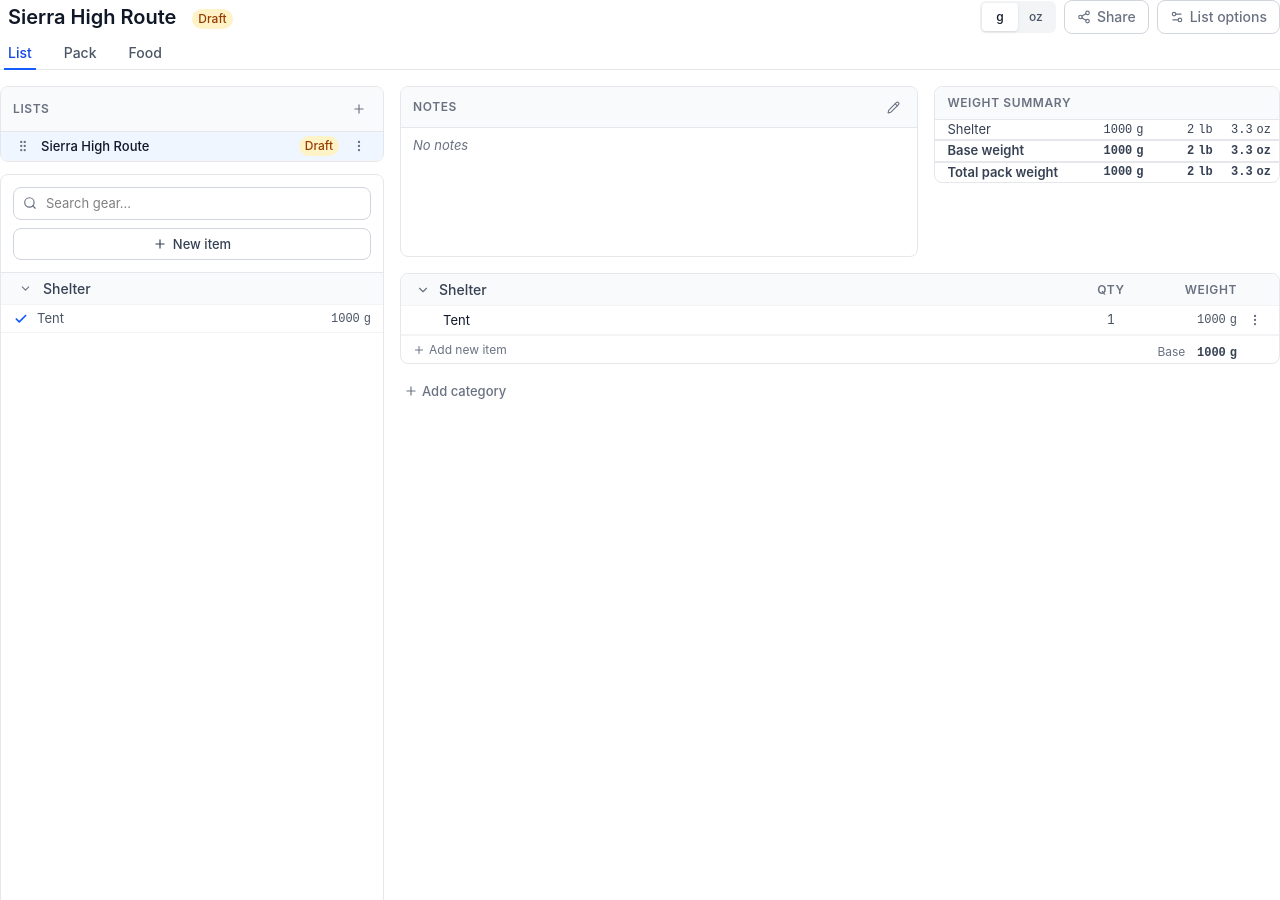
Scenario: the edit-gear dialog save › a success arriving after the dialog was reopened does not close the new one
What coordinates should you click on to do the following:
click the button named "Item options"
I would click on:
 (1255, 320)
Its box is 1243,308 -> 1267,332.
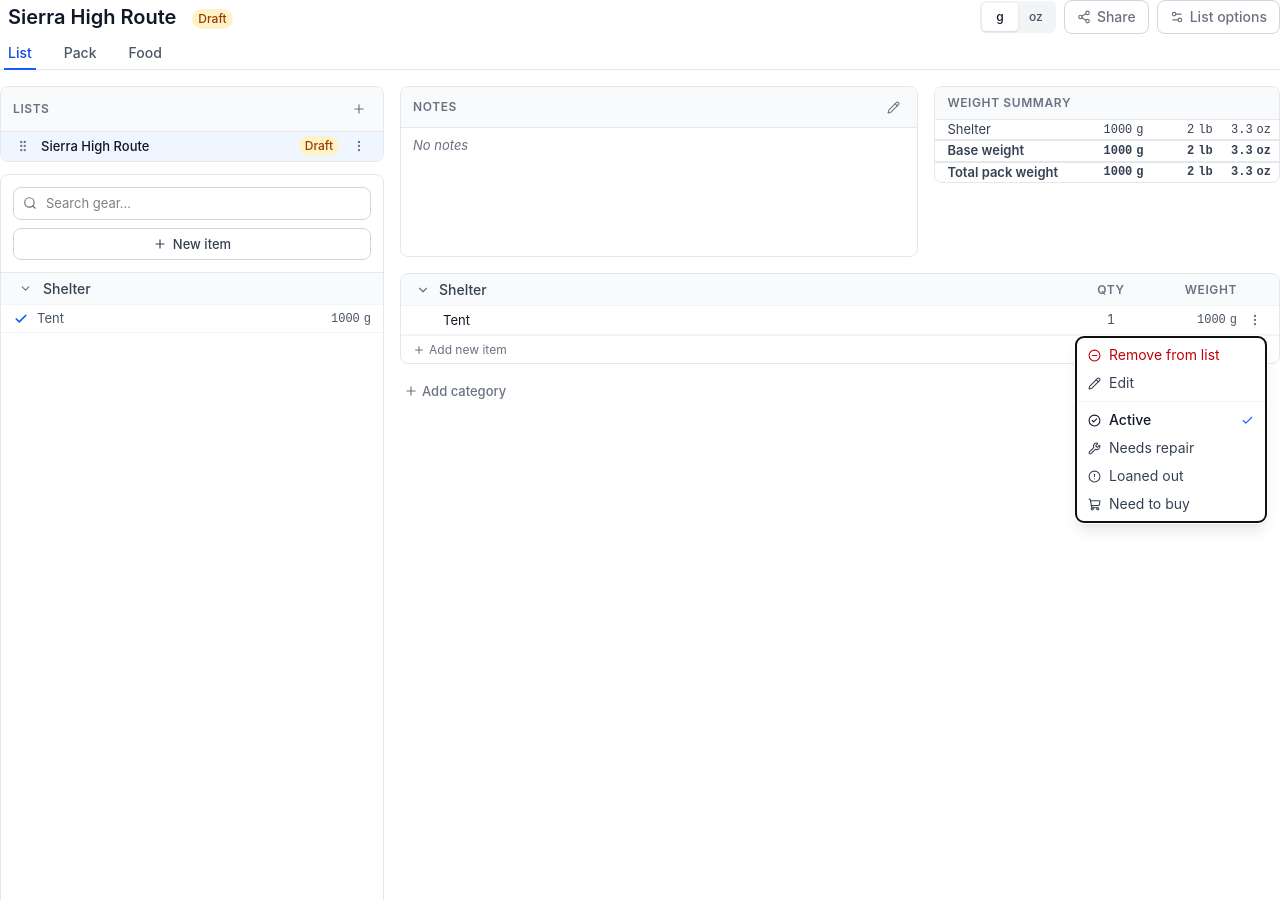
What coordinates should you click on to do the following:
click the button "Edit"
I would click on:
 (1171, 383)
Its box is 1076,369 -> 1266,397.
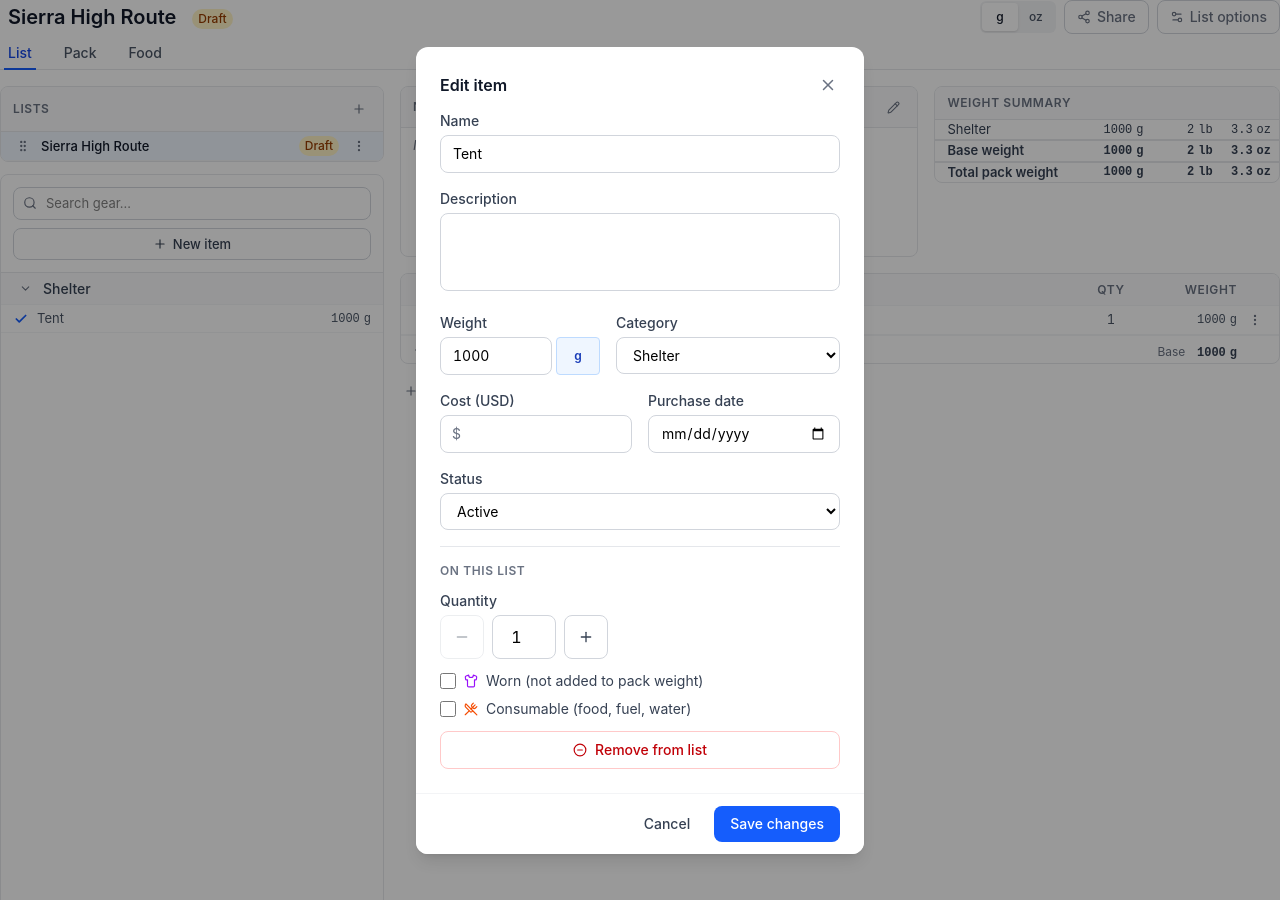
What coordinates should you click on to do the following:
click the button "Save changes"
I would click on:
 (777, 824)
Its box is 714,806 -> 840,842.
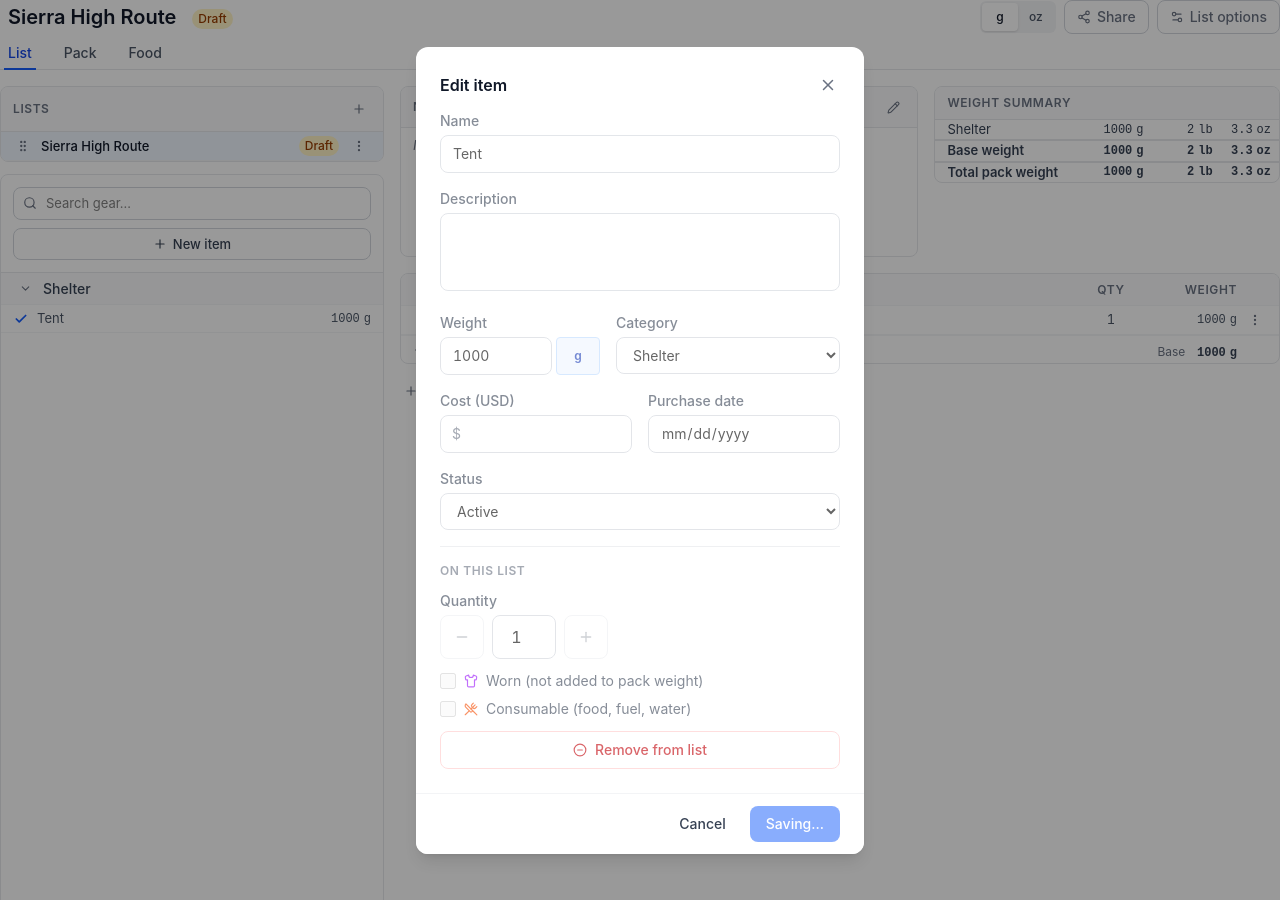
What coordinates should you click on to do the following:
click the button named "Close"
I would click on:
 (828, 84)
Its box is 816,70 -> 840,98.
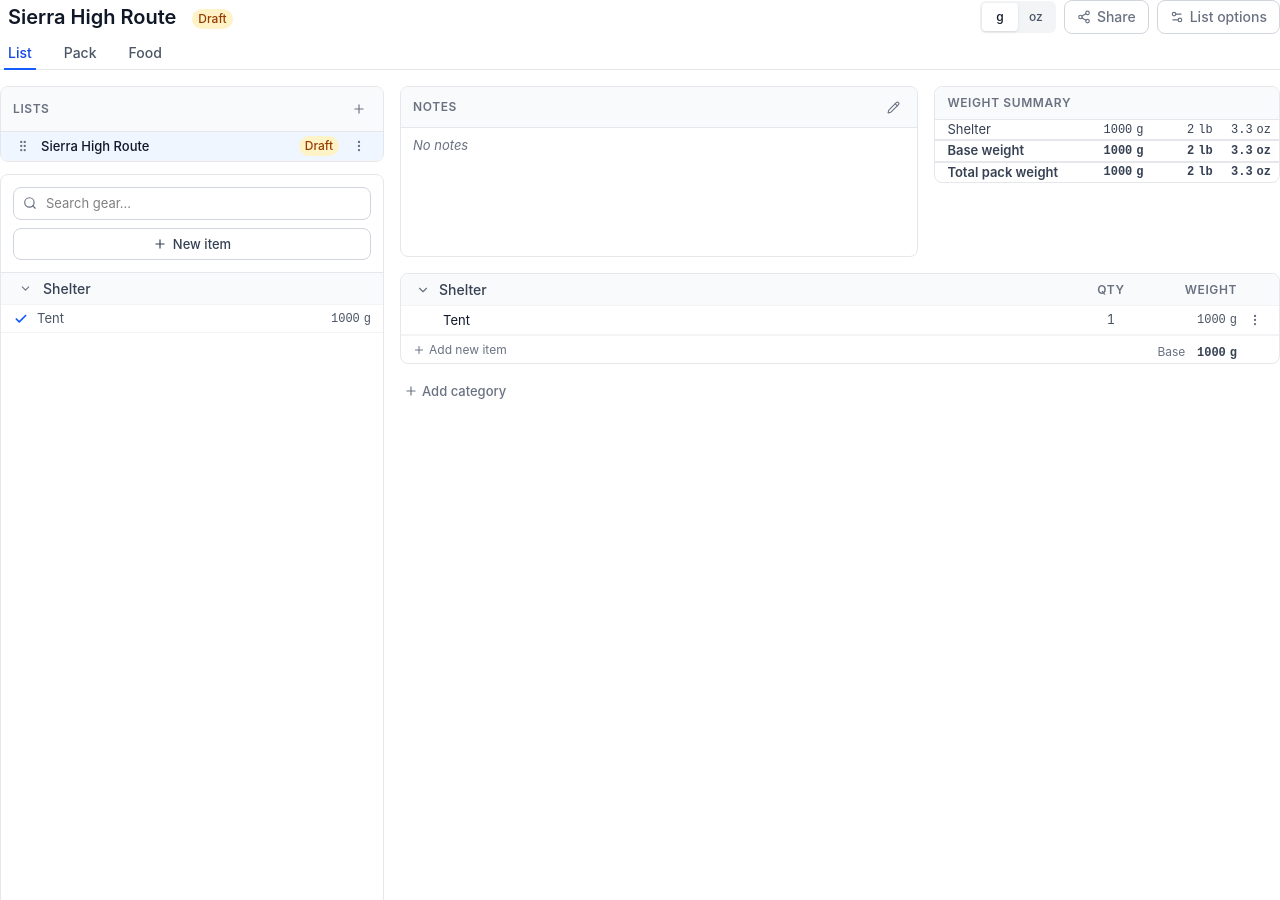
What coordinates should you click on to do the following:
click the button named "Item options"
I would click on:
 (1255, 320)
Its box is 1243,308 -> 1267,332.
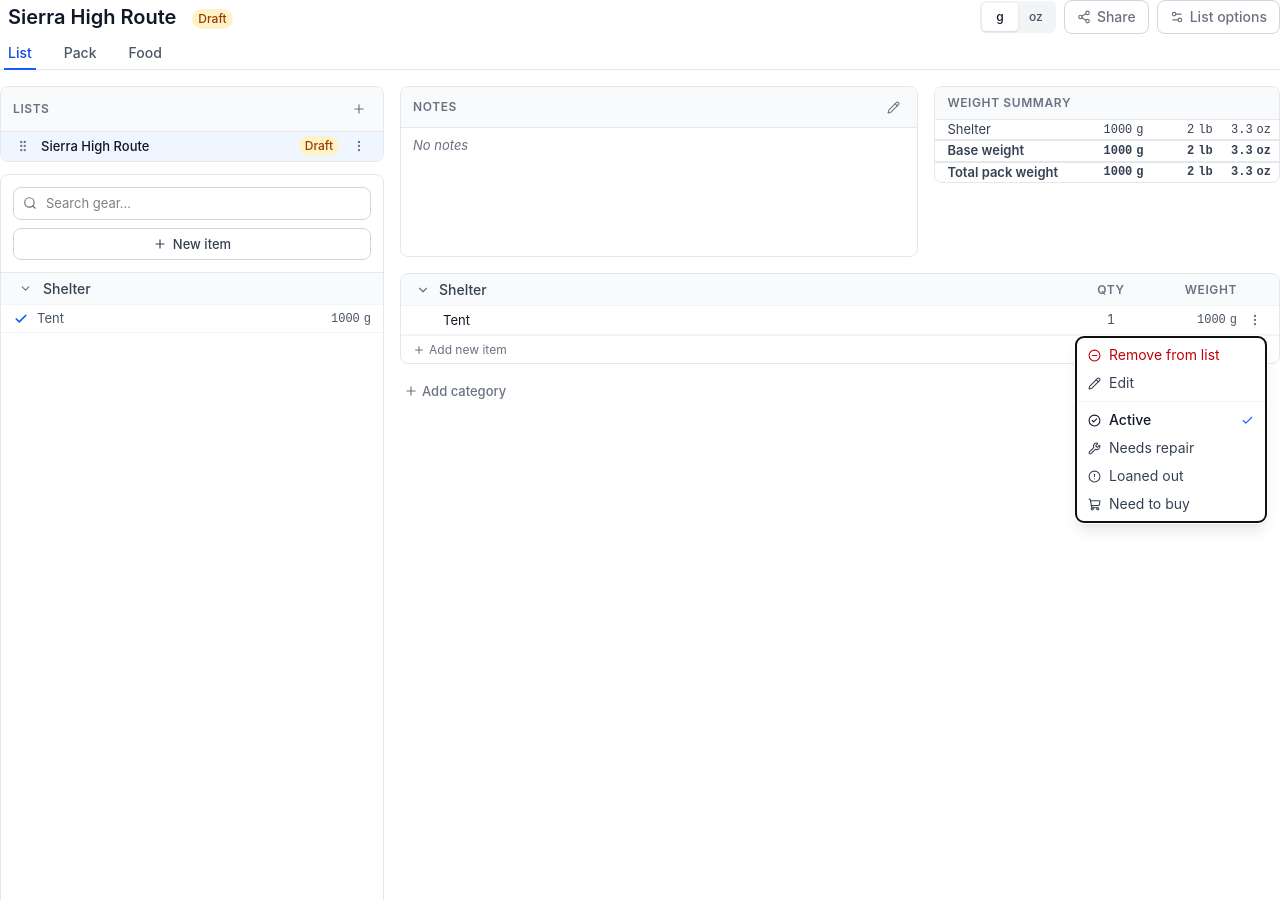
What coordinates should you click on to do the following:
click the button "Edit"
I would click on:
 (1171, 383)
Its box is 1076,369 -> 1266,397.
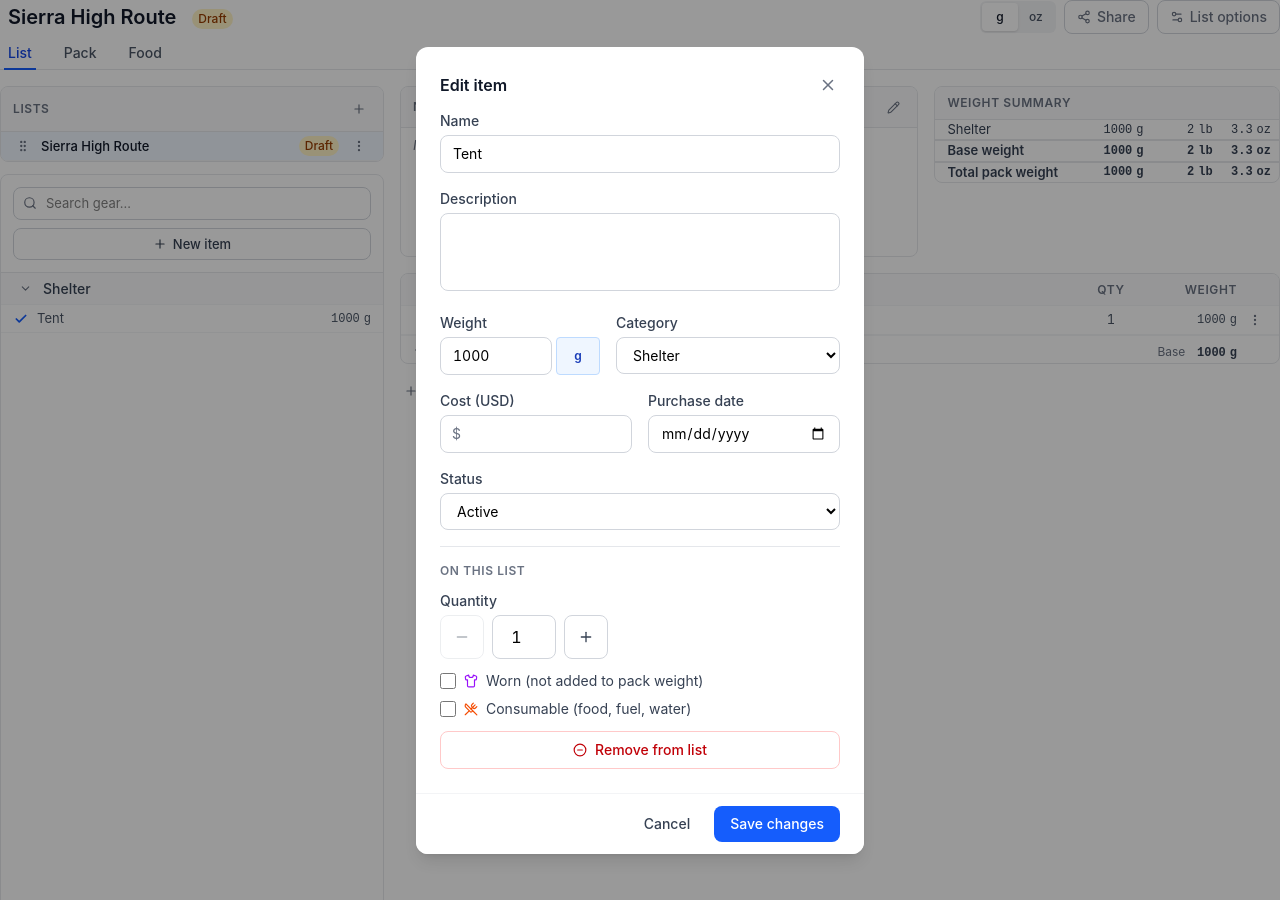
Expected: the dialog "Edit item" is shown, 416,46 -> 864,854
